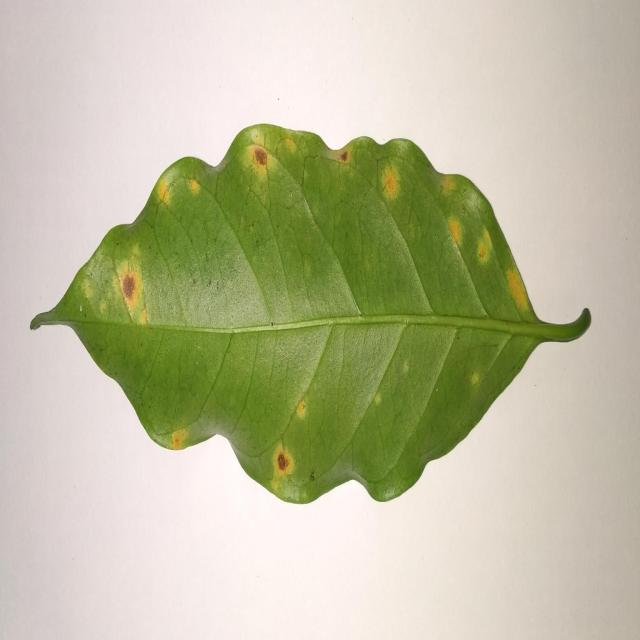Enfermedad-Roya: (29, 124, 593, 508)
